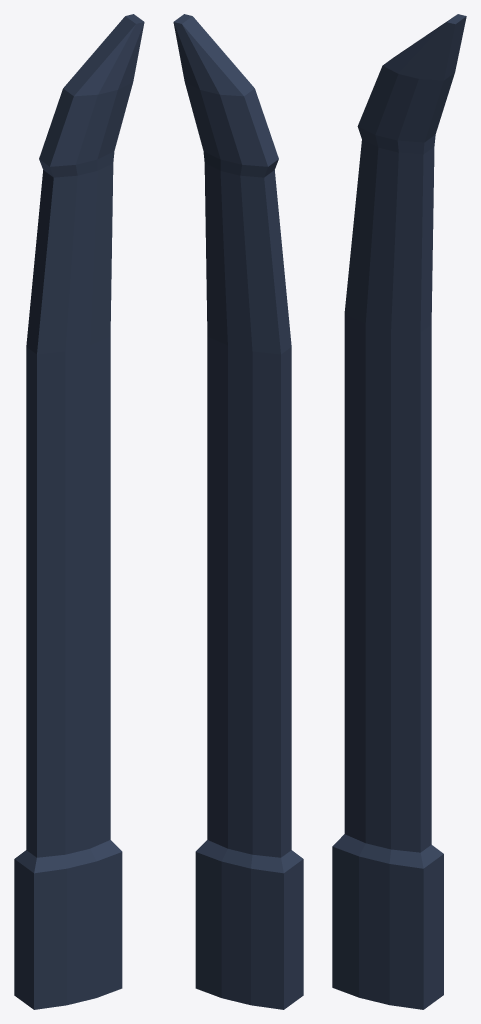
File: LongswordScabbard.obj
The picture shows the model from 3 angles, left to right: view 1: azimuth 30°, elevation 25°; view 2: azimuth 150°, elevation 25°; view 3: azimuth 330°, elevation 25°; orthographic projection. The views are drawn at different scales.
Visible parts, largest first — view 1: LongSwordCScabbard_Cube.002; view 2: LongSwordCScabbard_Cube.002; view 3: LongSwordCScabbard_Cube.002.
Part boxes in pixels (x1,y1,x2,y2): LongSwordCScabbard_Cube.002: [14, 14, 144, 1009]; LongSwordCScabbard_Cube.002: [173, 14, 303, 1009]; LongSwordCScabbard_Cube.002: [332, 14, 466, 1009].
Bounding box in the file's own units: 2.49 × 19.86 × 1.
